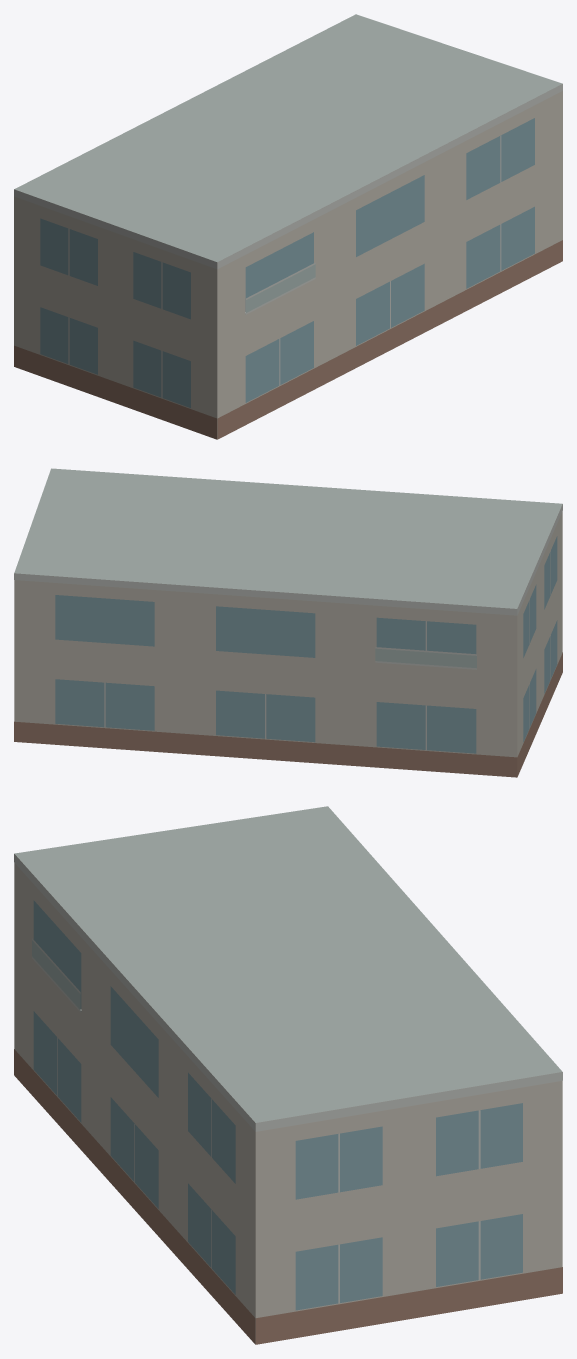
File: survey-upis-32842333.glb
3 renders of one model, top to bottom at view 1: azimuth 30°, elevation 25°; view 2: azimuth 150°, elevation 25°; view 3: azimuth 270°, elevation 25°, orthographic. The views are drawn at different scales.
Visible parts, largest first — view 1: survey-upis-32842333.tmp; view 2: survey-upis-32842333.tmp; view 3: survey-upis-32842333.tmp.
Part boxes in pixels (x1=…): survey-upis-32842333.tmp: x1=14, y1=14, x2=562, y2=439; survey-upis-32842333.tmp: x1=14, y1=468, x2=562, y2=777; survey-upis-32842333.tmp: x1=14, y1=806, x2=562, y2=1344.
Size of the model in its own units: 18.71 by 6.1 by 13.69.
